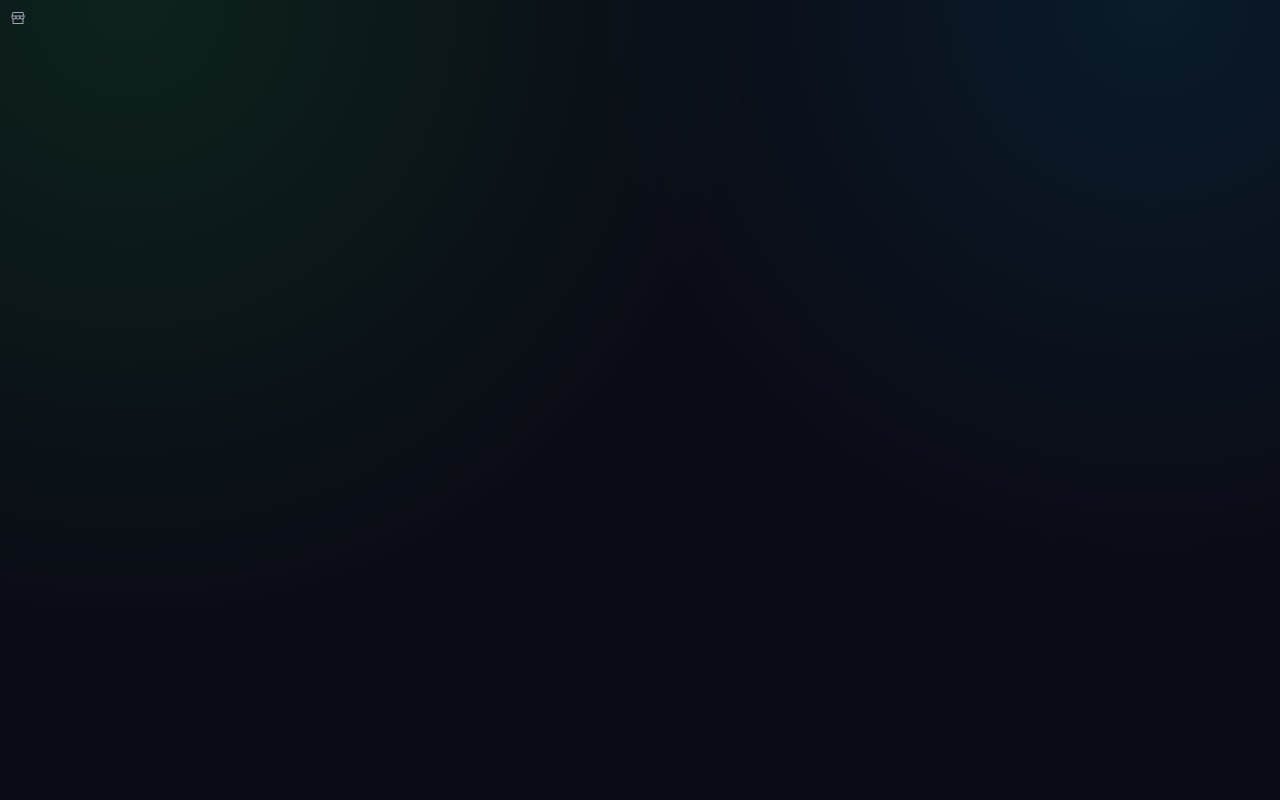
it: WhatsApp Catalog Integration & Inbox Dispatch › opens popover on click and lists products with 'Enviar no Chat' action
Click the button named "Abrir catálogo WhatsApp".
click(18, 18)  # box top-left (0, 0), bottom-right (36, 36)
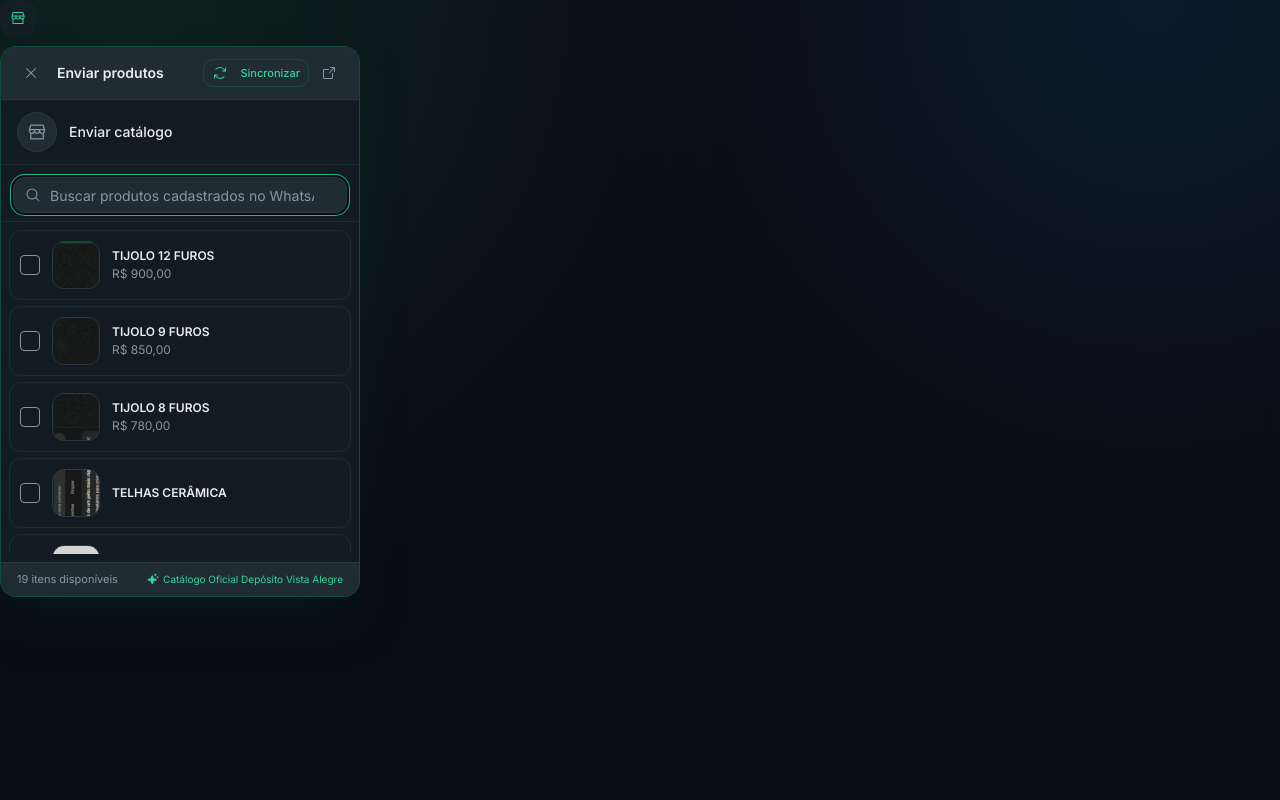
Expected: the dialog is shown, top-left (0, 46), bottom-right (360, 596)
Expected: the dialog shows "Enviar produtos", top-left (57, 64), bottom-right (164, 81)
Expected: the dialog shows "Depósito Vista Alegre", top-left (163, 573), bottom-right (343, 585)
